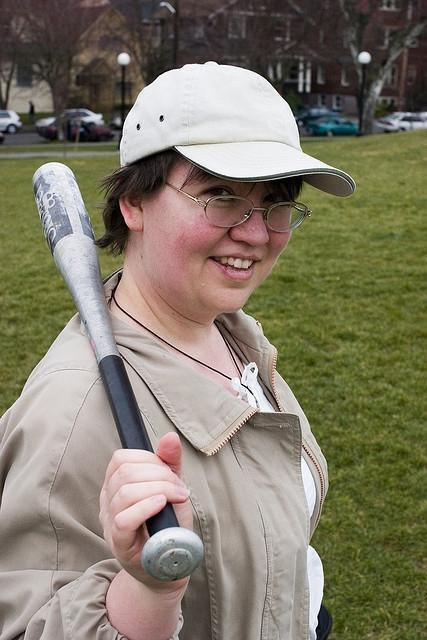car: (33, 109, 106, 136), (45, 118, 112, 140), (294, 105, 346, 128), (373, 112, 426, 134), (306, 116, 358, 137), (0, 110, 22, 134), (110, 116, 121, 129), (0, 131, 7, 144)
